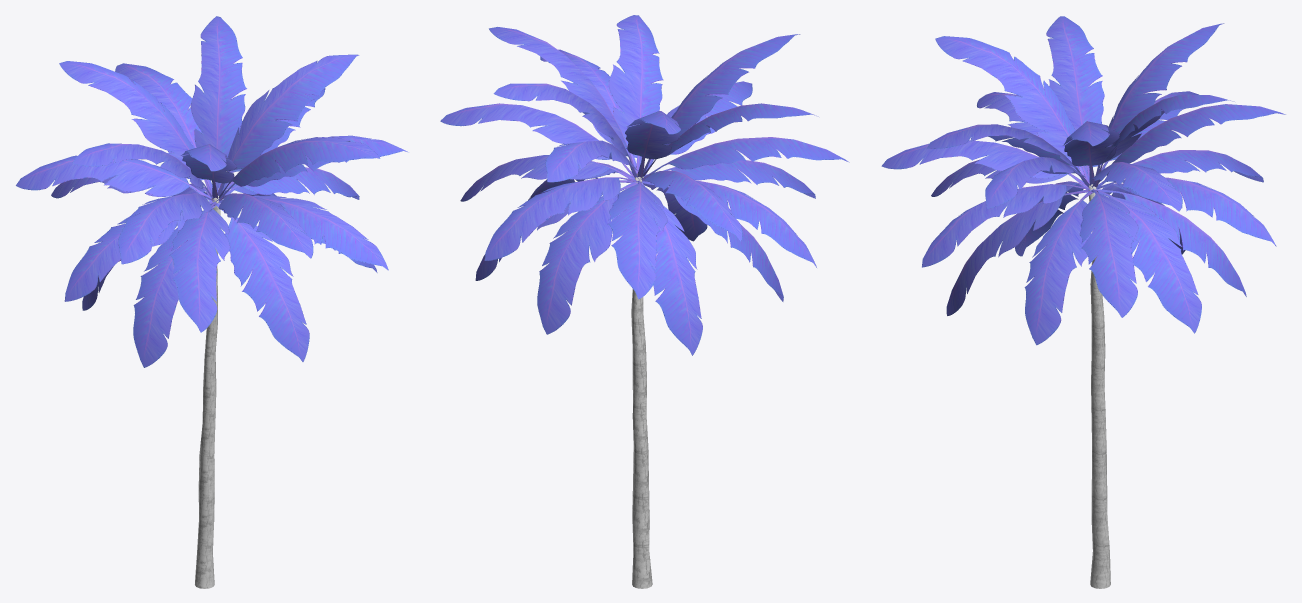
File: palmTree.obj
3 views of the same model, side by side, from view 1: azimuth 30°, elevation 25°; view 2: azimuth 150°, elevation 25°; view 3: azimuth 270°, elevation 25° (orthographic). The views are drawn at different scales.
Parts seen in each view (by area): view 1: leaf, bark; view 2: leaf, bark; view 3: leaf, bark.
Boxes of the visible parts, x1,y1,x2,y2 form: leaf: [16, 16, 408, 367]; bark: [195, 195, 220, 588]; leaf: [440, 15, 849, 355]; bark: [631, 173, 652, 588]; leaf: [881, 16, 1285, 345]; bark: [1088, 183, 1110, 588].
Size of the model in its own units: 7.07 by 10.35 by 7.3.
2 materials, 2 textured.
